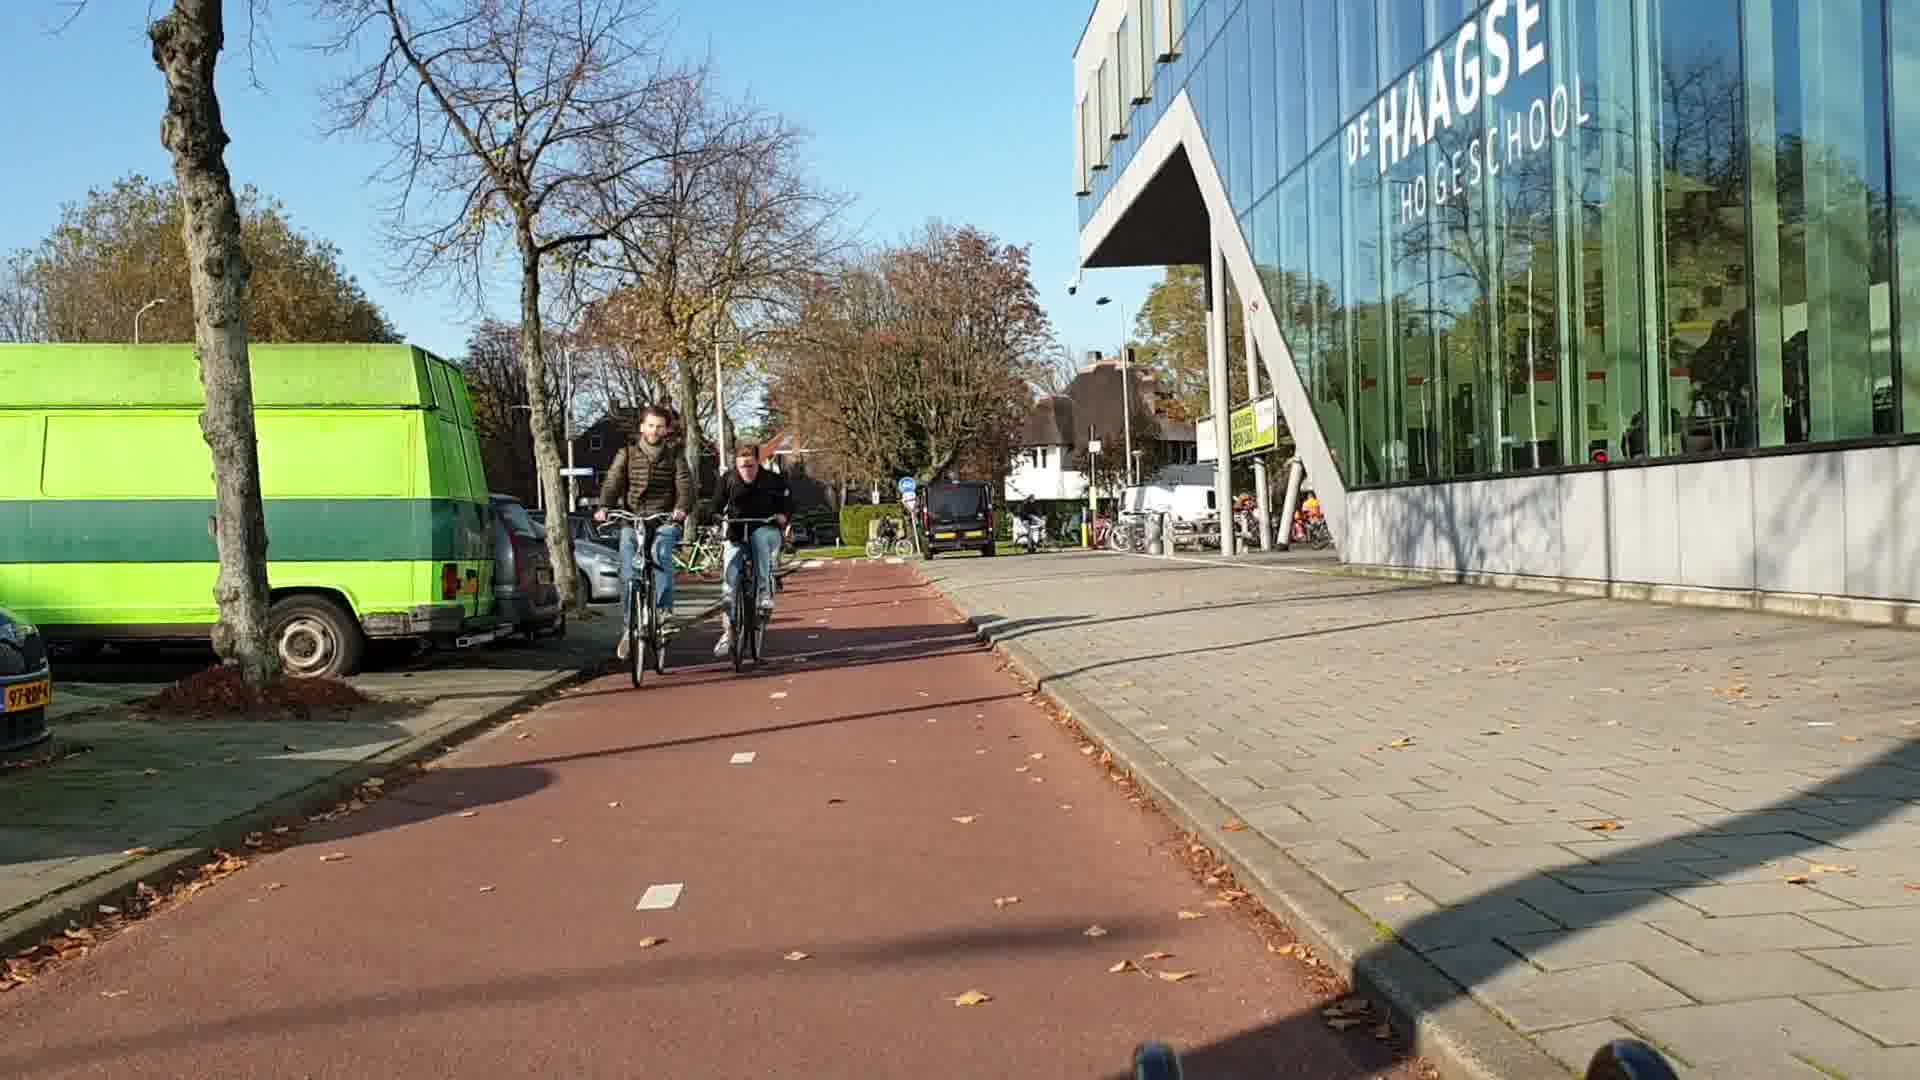car: (1, 345, 492, 671), (913, 480, 993, 555), (1, 680, 51, 708)
